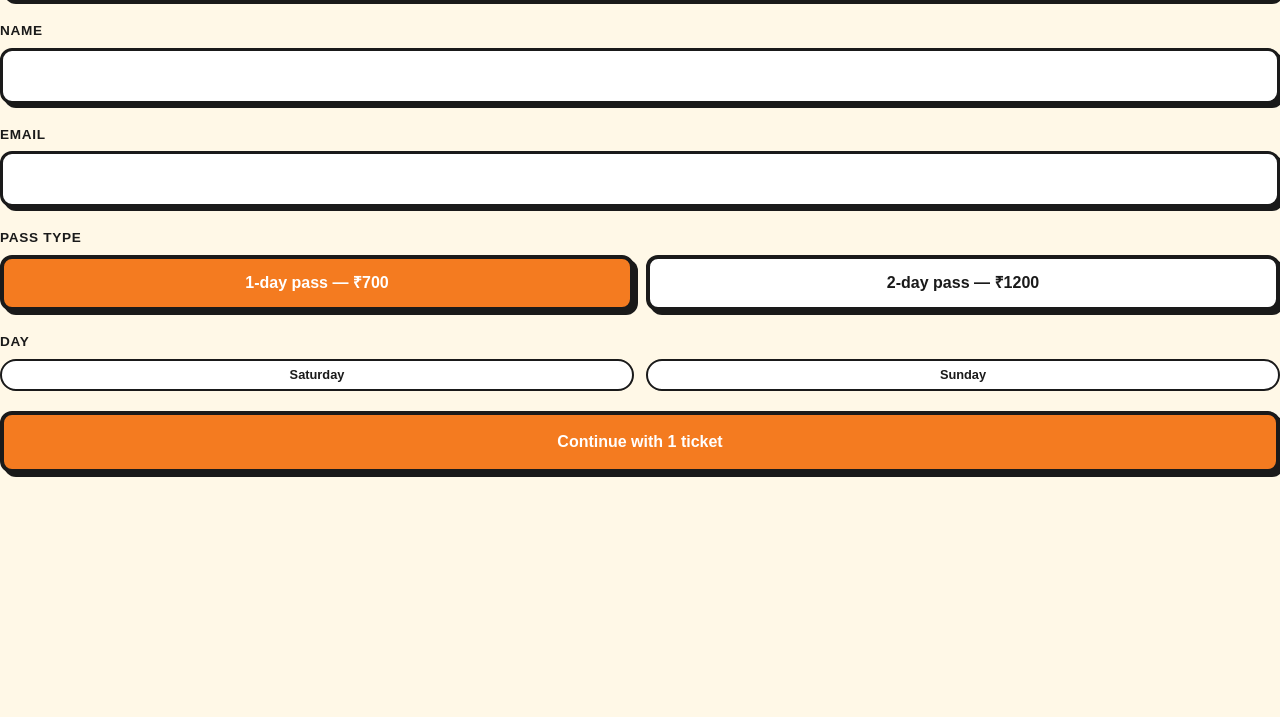
Scenario: RegisterForm › re-prices an applied code when the ticket quantity changes
The width and height of the screenshot is (1280, 717).
Click the radio button labelled "Saturday" at (317, 375), box [0, 358, 634, 391]
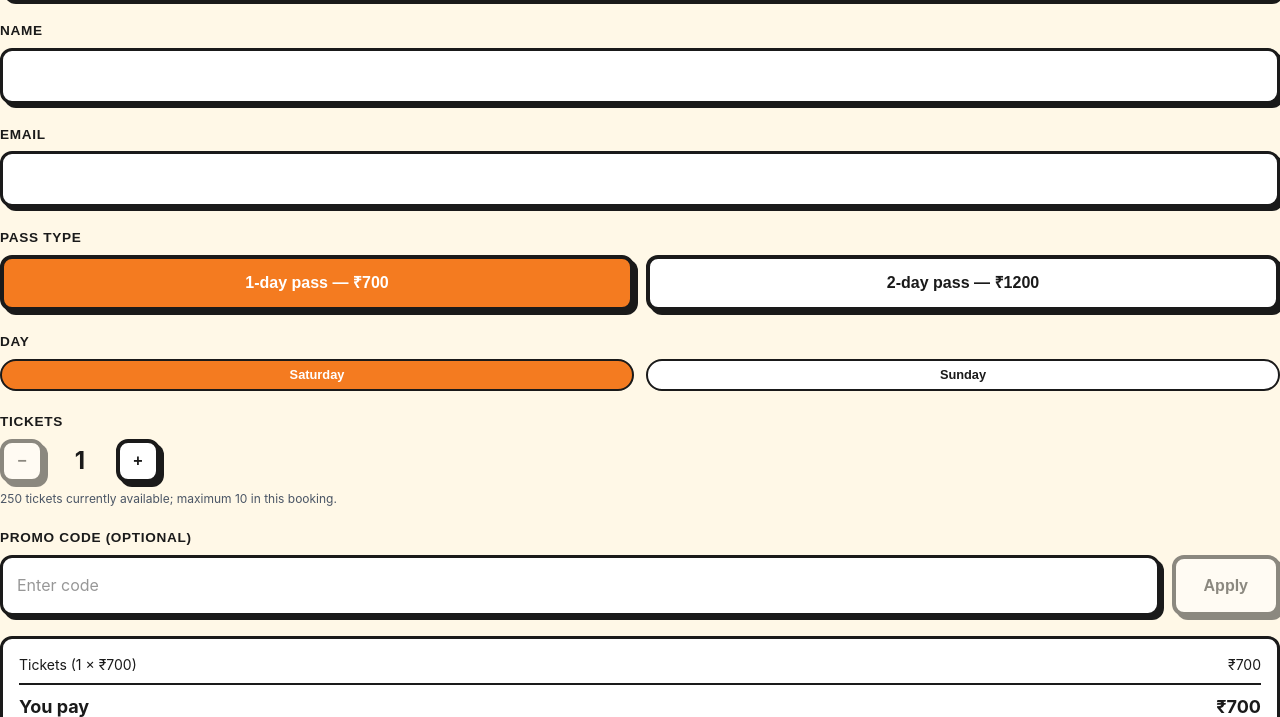
Type "SAVE20" into the field labelled "Promo code (optional)" at (580, 585), box [0, 554, 1160, 616]
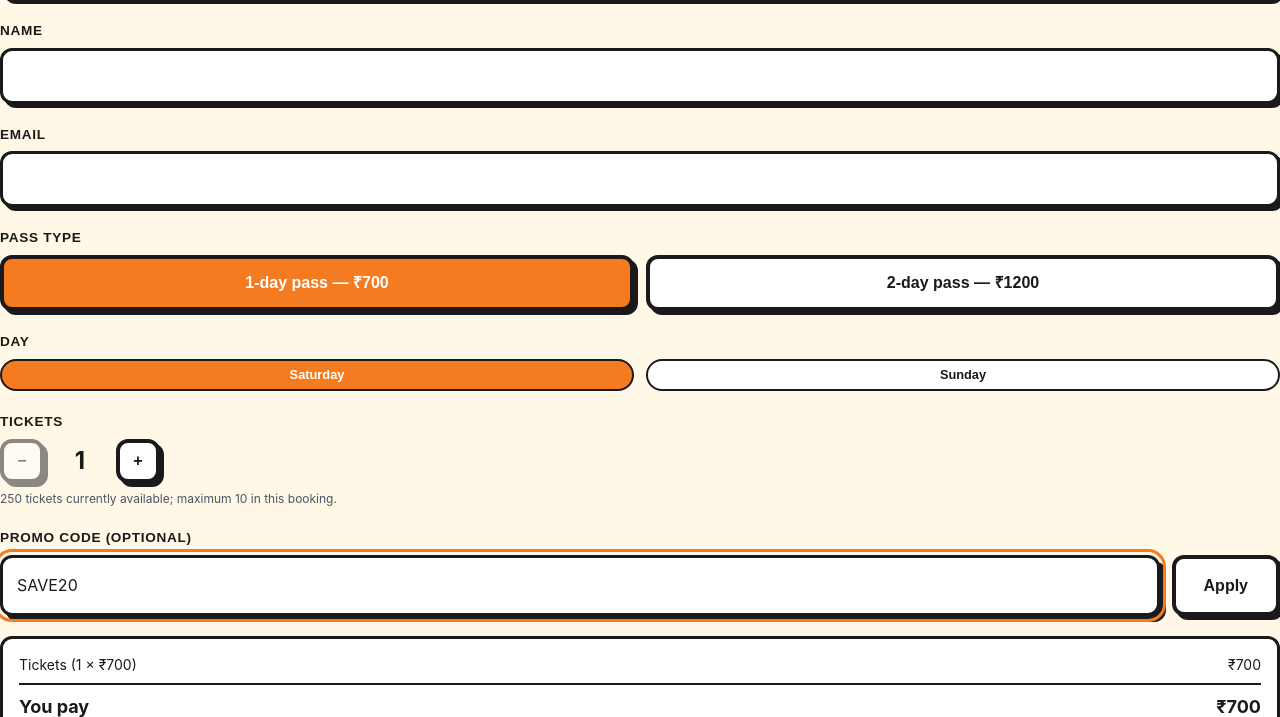
Click the button "Apply" at (1226, 585), box [1172, 554, 1279, 616]
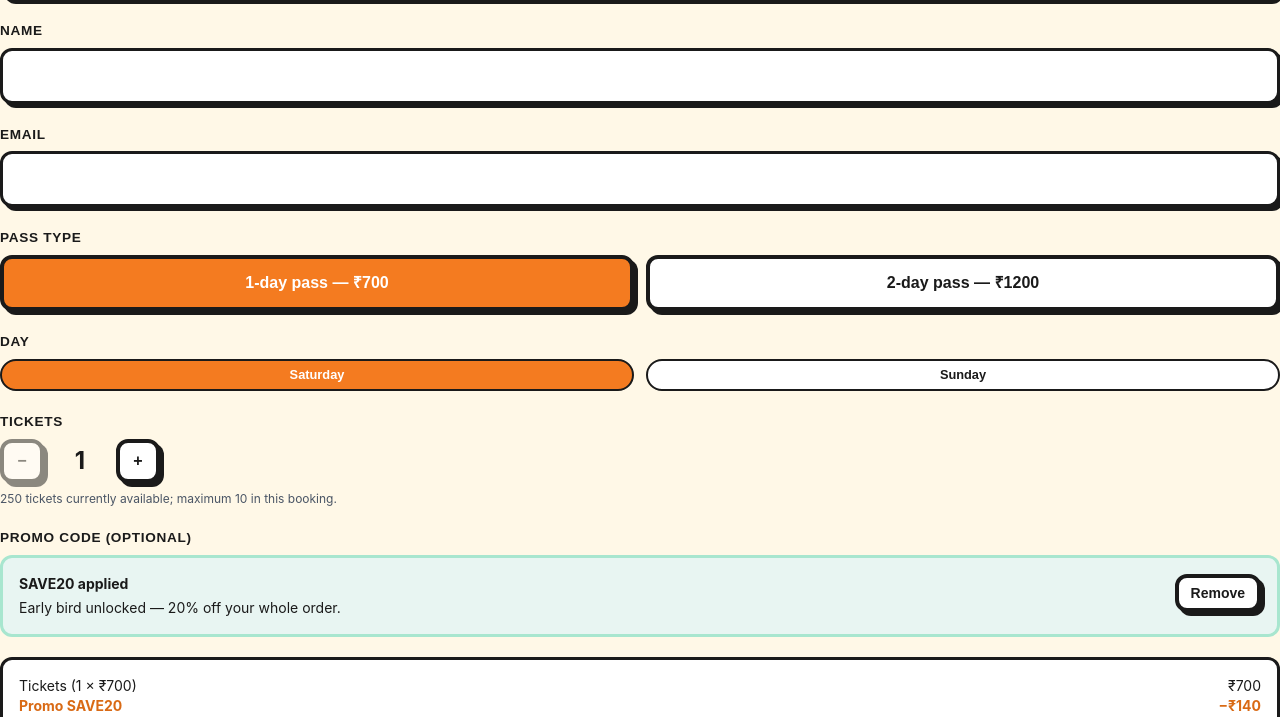
Result: the text "SAVE20 applied" is shown at [19, 574, 128, 592]
Click the button named "increase ticket quantity" at (138, 461), box [116, 439, 160, 483]
(page scrolled)
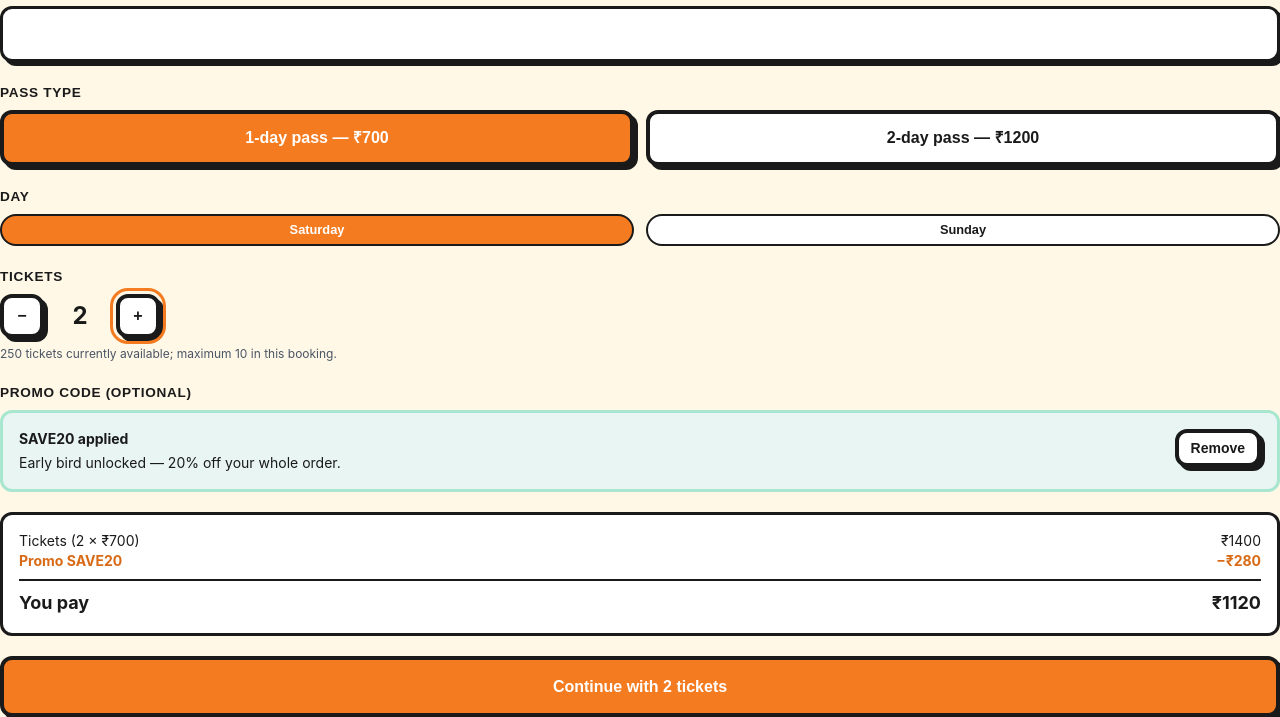
Result: the text "−₹280" is shown at [1216, 550, 1261, 570]
Result: the text "₹1120" is shown at [1212, 588, 1261, 616]
